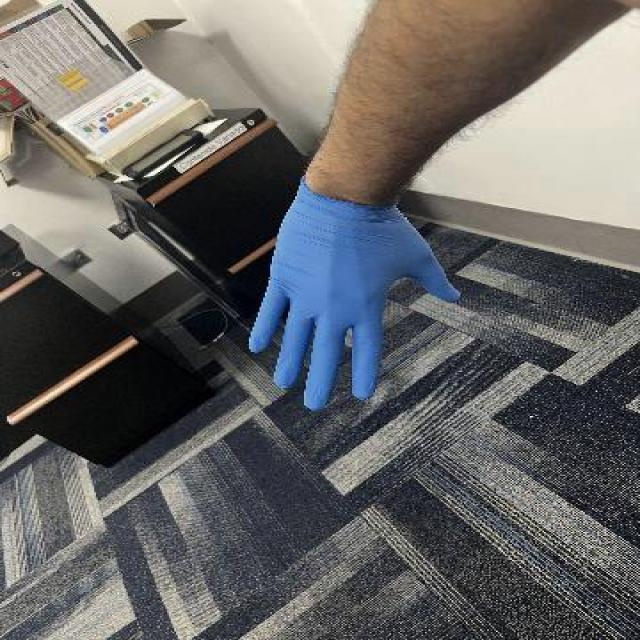Guantes: (246, 177, 461, 412)
